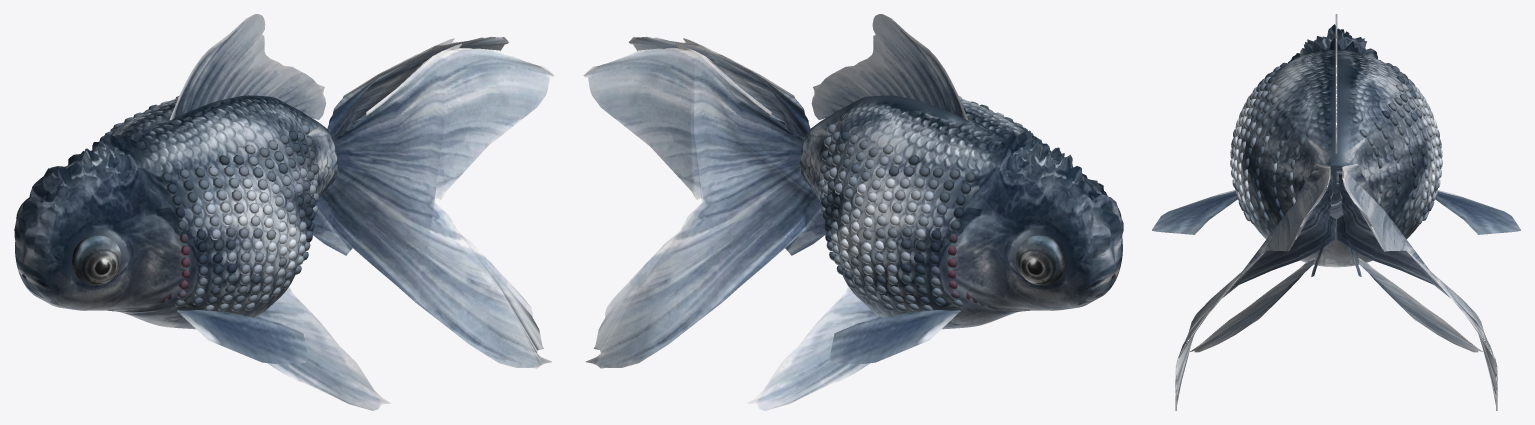
Rendered from horyu.glb.
The picture shows the model from 3 angles, left to right: view 1: azimuth 30°, elevation 25°; view 2: azimuth 150°, elevation 25°; view 3: azimuth 270°, elevation 25°; orthographic projection. The views are drawn at different scales.
Visible parts, largest first — view 1: caudal_near, body, pearls, wen, dorsal, pelvic_near, pectoral_near, caudal_far, gill_near, eye_near, anal_near; view 2: caudal_far, body, pearls, wen, dorsal, pelvic_far, pectoral_far, caudal_near, gill_far, eye_far, anal_far; view 3: body, pearls, caudal_near, caudal_far, pelvic_near, pelvic_far, pectoral_near, pectoral_far, wen, dorsal.
Boxes of the visible parts, left/top/right/bottom form: caudal_near: left=321, top=43, right=554, bottom=368; body: left=15, top=95, right=337, bottom=329; pearls: left=99, top=96, right=319, bottom=311; wen: left=14, top=134, right=158, bottom=261; dorsal: left=169, top=14, right=326, bottom=120; pelvic_near: left=254, top=287, right=390, bottom=410; pectoral_near: left=177, top=310, right=307, bottom=363; caudal_far: left=327, top=36, right=508, bottom=137; gill_near: left=107, top=207, right=198, bottom=311; eye_near: left=72, top=235, right=121, bottom=285; anal_near: left=311, top=196, right=352, bottom=255; caudal_far: left=583, top=43, right=816, bottom=368; body: left=800, top=95, right=1122, bottom=329; pearls: left=818, top=96, right=1037, bottom=311; wen: left=979, top=130, right=1123, bottom=261; dorsal: left=811, top=14, right=968, bottom=120; pelvic_far: left=746, top=287, right=883, bottom=410; pectoral_far: left=830, top=310, right=960, bottom=363; caudal_near: left=628, top=36, right=810, bottom=137; gill_far: left=939, top=207, right=1029, bottom=311; eye_far: left=1016, top=235, right=1065, bottom=285; anal_far: left=785, top=196, right=826, bottom=255; body: left=1232, top=50, right=1439, bottom=267; pearls: left=1230, top=62, right=1442, bottom=224; caudal_near: left=1175, top=163, right=1335, bottom=410; caudal_far: left=1337, top=163, right=1497, bottom=410; pelvic_near: left=1190, top=258, right=1315, bottom=352; pelvic_far: left=1357, top=258, right=1482, bottom=352; pectoral_near: left=1152, top=190, right=1237, bottom=234; pectoral_far: left=1435, top=190, right=1520, bottom=234; wen: left=1288, top=24, right=1380, bottom=62; dorsal: left=1335, top=14, right=1337, bottom=153.
Bounding box in the file's own units: 0.15 × 0.0981 × 0.103.
Materials: 1 (1 with a texture image).
